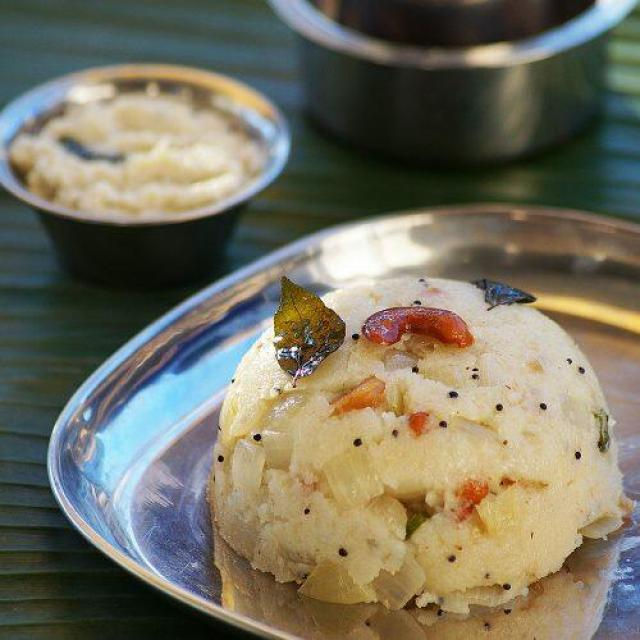UPMA: (204, 276, 627, 613)
